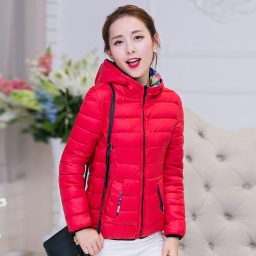face: (98, 3, 166, 91)
